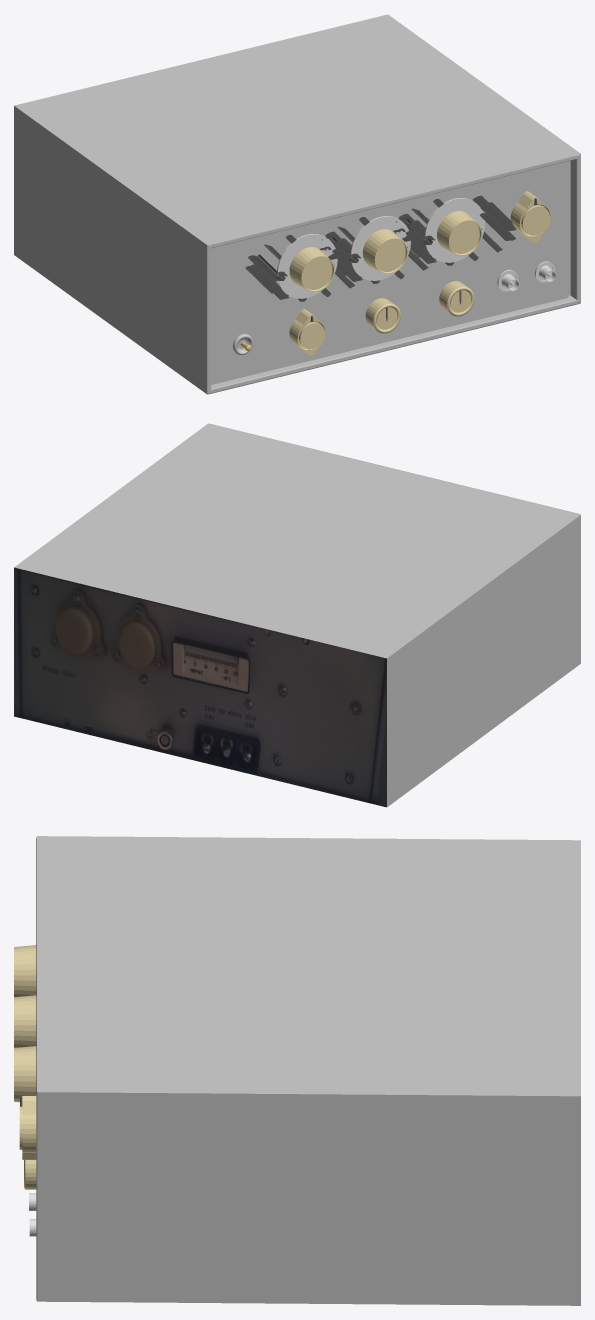
The model's file is generatorHD.fbx.
3 renders of one model, top to bottom at view 1: azimuth 30°, elevation 25°; view 2: azimuth 150°, elevation 25°; view 3: azimuth 270°, elevation 25°, orthographic. The views are drawn at different scales.
Parts seen in each view (by area): view 1: Cube.001, Cube, Text.002, Text, Krutilka1, Krutilka2, Krutilka3, Cube.004, Cube.002, Cube.003, KrutilkaRight, Text.001 (+3 smaller); view 2: Cube.001, back; view 3: Cube.001, Krutilka2, Krutilka3, Krutilka1, KrutilkaRight.
Boxes of the visible parts, left/top/right/bottom form: Cube.001: left=14, top=14, right=580, bottom=394; Cube: left=211, top=161, right=568, bottom=384; Text.002: left=393, top=195, right=516, bottom=265; Text: left=245, top=231, right=360, bottom=301; Krutilka1: left=289, top=247, right=334, bottom=291; Krutilka2: left=362, top=229, right=407, bottom=273; Krutilka3: left=437, top=211, right=481, bottom=255; Cube.004: left=424, top=198, right=485, bottom=262; Cube.002: left=277, top=233, right=337, bottom=298; Cube.003: left=350, top=216, right=410, bottom=280; KrutilkaRight: left=510, top=191, right=550, bottom=243; Text.001: left=319, top=213, right=434, bottom=283; Cube.001: left=14, top=423, right=580, bottom=807; back: left=14, top=567, right=386, bottom=807; Cube.001: left=36, top=836, right=580, bottom=1305; Krutilka2: left=14, top=995, right=36, bottom=1047; Krutilka3: left=14, top=1046, right=36, bottom=1102; Krutilka1: left=14, top=945, right=36, bottom=997; KrutilkaRight: left=19, top=1096, right=36, bottom=1159.
Size of the model in its own units: 472 by 183 by 440.
